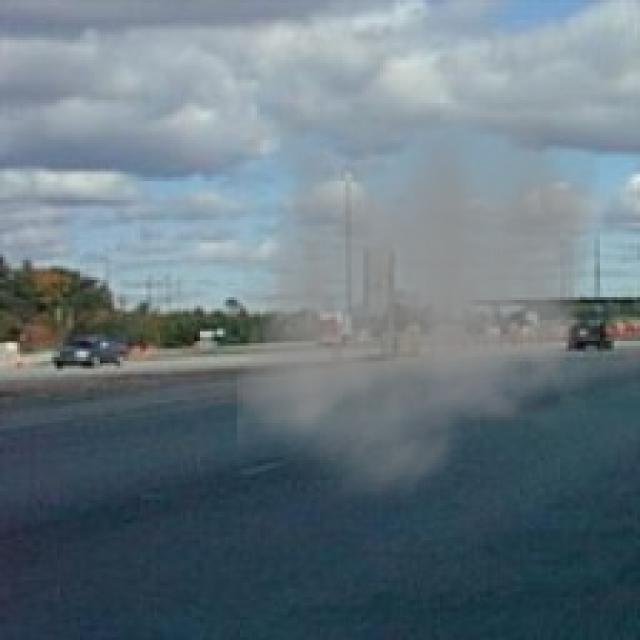smoke: (237, 103, 600, 514)
